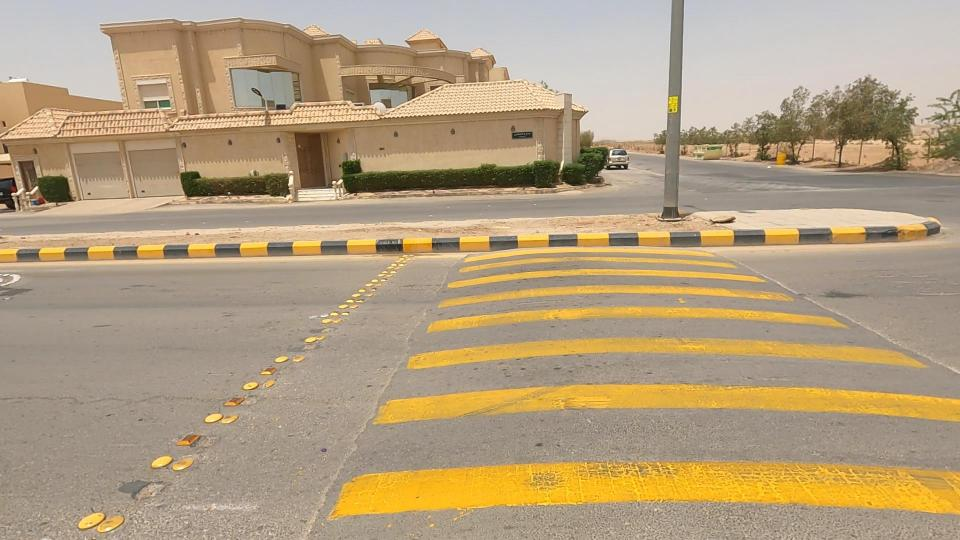CLUTTER_SIDEWALK: (191, 177, 851, 289), (0, 194, 346, 291)
